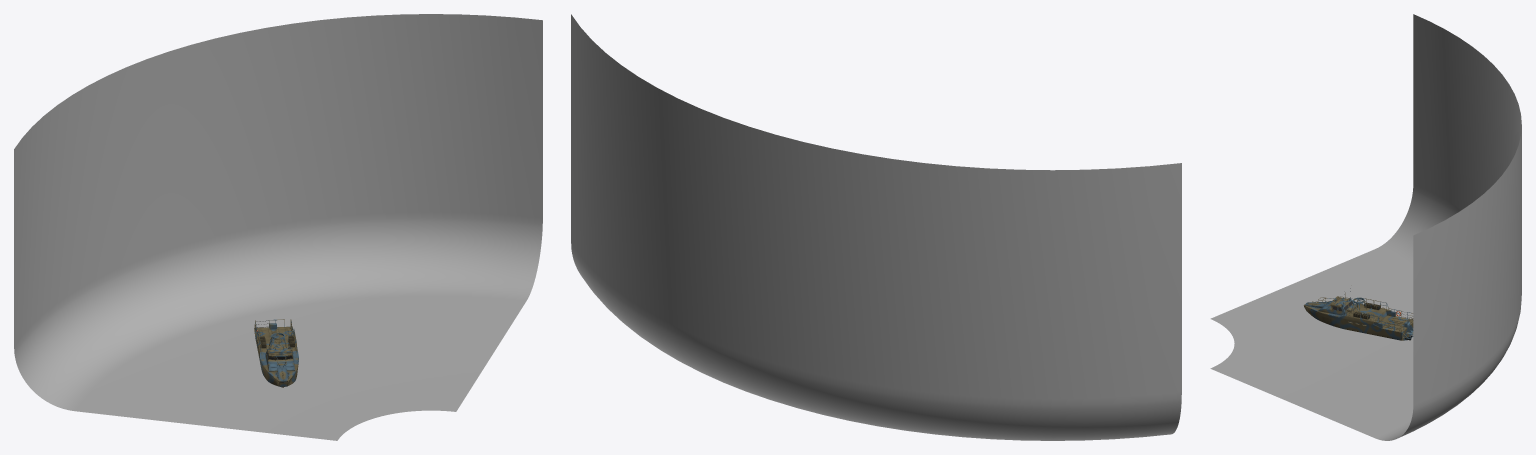
3 views of the same model, side by side, from view 1: azimuth 30°, elevation 25°; view 2: azimuth 150°, elevation 25°; view 3: azimuth 270°, elevation 25° (orthographic). The views are drawn at different scales.
Parts seen in each view (by area): view 1: Studio, AM84_021_05; view 2: Studio; view 3: Studio, AM84_021_05.
Part boxes in pixels (left/top/right/bottom): Studio: left=14, top=14, right=542, bottom=440; AM84_021_05: left=254, top=319, right=298, bottom=387; Studio: left=571, top=14, right=1181, bottom=440; Studio: left=1210, top=14, right=1521, bottom=440; AM84_021_05: left=1304, top=288, right=1413, bottom=340.
Size of the model in its own units: 1634 by 753 by 972.
Materials: 7 (2 with a texture image).
